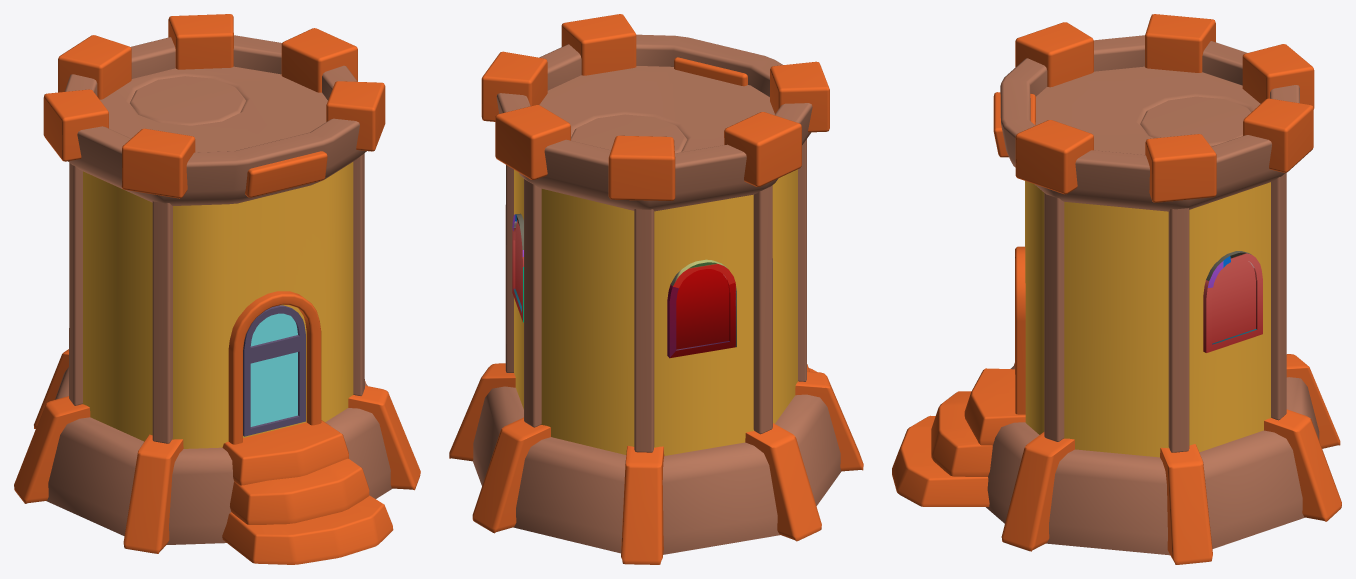
Rendered from towerRev2.fbx.
3 views of the same model, side by side, from view 1: azimuth 30°, elevation 25°; view 2: azimuth 150°, elevation 25°; view 3: azimuth 270°, elevation 25° (orthographic).
Visible parts, largest first — view 1: tower; view 2: tower; view 3: tower.
Boxes of the visible parts, <box> form: tower: <box>14,14,420,564</box>; tower: <box>449,14,863,564</box>; tower: <box>892,14,1341,564</box>.
Size of the model in its own units: 58.08 by 60.54 by 63.04.
Materials: 1 (1 with a texture image).
